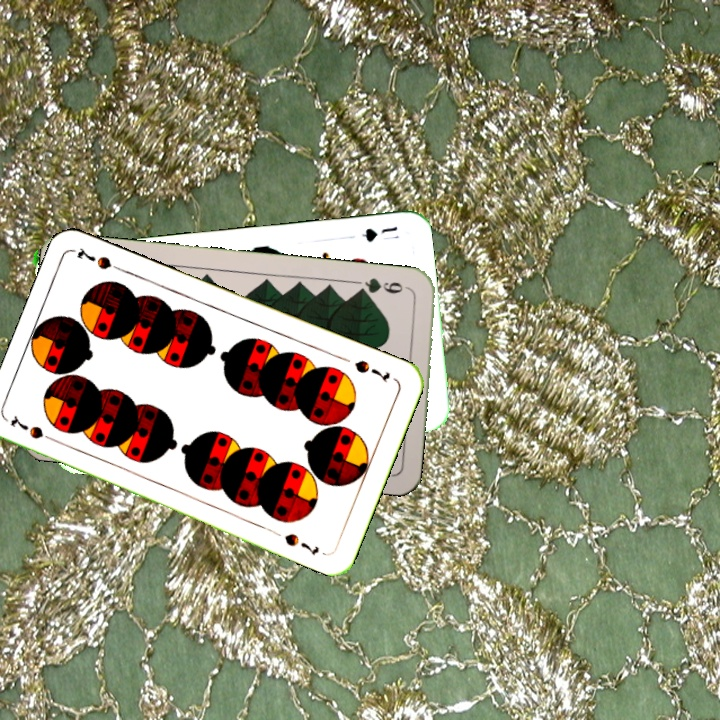G9: (353, 274, 413, 297)
GU: (357, 222, 400, 245)
S7: (6, 412, 61, 447), (350, 356, 393, 386)
